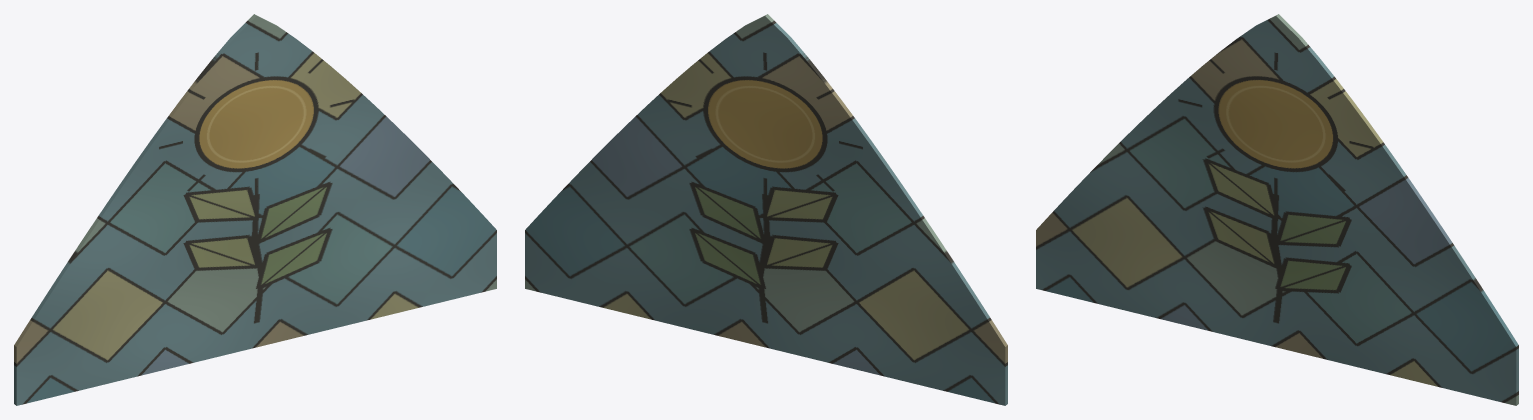
File: BW_Chapel01_StainedGlass.fbx
3 views of the same model, side by side, from view 1: azimuth 30°, elevation 25°; view 2: azimuth 150°, elevation 25°; view 3: azimuth 330°, elevation 25° (orthographic).
Visible parts, largest first — view 1: BW_Chapel01_StainedGlass; view 2: BW_Chapel01_StainedGlass; view 3: BW_Chapel01_StainedGlass.
Boxes of the visible parts, x1=… form: BW_Chapel01_StainedGlass: x1=14, y1=14, x2=496, y2=405; BW_Chapel01_StainedGlass: x1=525, y1=14, x2=1007, y2=405; BW_Chapel01_StainedGlass: x1=1036, y1=14, x2=1518, y2=405.
Bounding box in the file's own units: 4.7 × 3.1 × 0.045.
